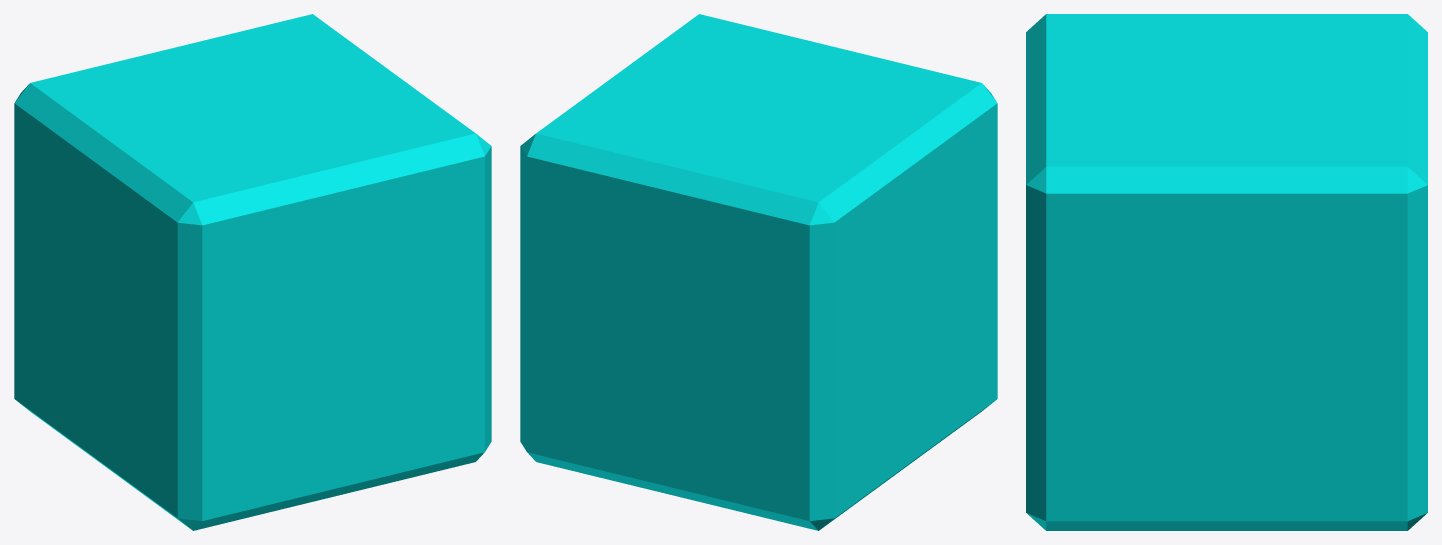
File: CubeTeal.glb
3 renders of one model, left to right at view 1: azimuth 30°, elevation 25°; view 2: azimuth 150°, elevation 25°; view 3: azimuth 270°, elevation 25°, orthographic. The views are drawn at different scales.
Visible parts, largest first — view 1: Cube.004; view 2: Cube.004; view 3: Cube.004.
Part boxes in pixels (x1,y1,x2,y2): Cube.004: [14, 14, 491, 530]; Cube.004: [520, 14, 997, 530]; Cube.004: [1026, 14, 1427, 530].
Bounding box in the file's own units: 1 × 1 × 1.
